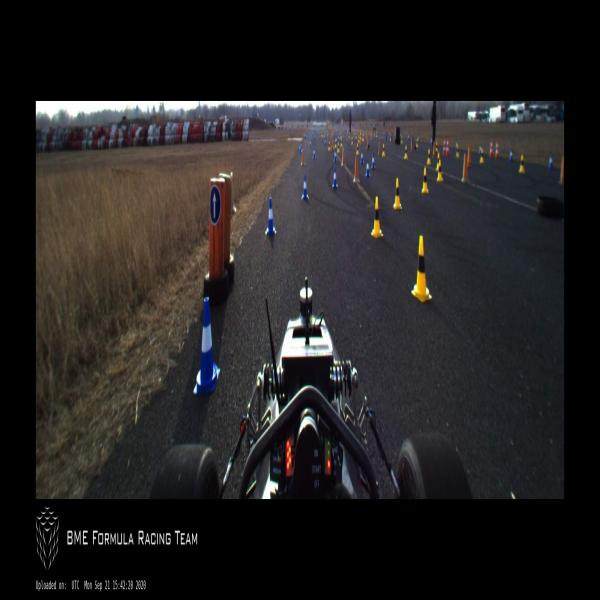blue_cone: (193, 297, 220, 394), (266, 198, 276, 235), (301, 174, 309, 199), (332, 168, 338, 188), (371, 153, 376, 169), (366, 158, 370, 176), (549, 154, 553, 169), (360, 150, 364, 164), (510, 149, 514, 162), (312, 147, 316, 159), (334, 150, 337, 162), (309, 140, 312, 147), (479, 144, 481, 154), (299, 144, 301, 153), (324, 138, 326, 146), (418, 136, 420, 142), (308, 131, 310, 137), (318, 130, 320, 136), (430, 138, 432, 144), (456, 141, 458, 147), (408, 134, 409, 141), (380, 132, 381, 139), (338, 135, 339, 141), (336, 136, 337, 142), (305, 134, 306, 140), (312, 132, 313, 136), (389, 132, 390, 136), (314, 135, 314, 140)
large_orange_cone: (496, 138, 500, 158), (446, 137, 450, 156), (443, 136, 446, 155), (490, 139, 493, 157)
unknown_cone: (461, 154, 470, 183), (353, 156, 360, 182), (559, 154, 564, 184), (341, 146, 346, 166), (467, 147, 472, 167), (301, 148, 305, 166), (378, 141, 381, 155), (410, 138, 413, 152), (366, 136, 369, 149), (331, 138, 334, 150), (433, 142, 435, 157), (360, 135, 362, 146), (370, 129, 372, 139), (366, 129, 368, 139), (374, 129, 376, 138), (306, 138, 308, 146), (327, 136, 329, 142), (386, 133, 387, 141), (391, 134, 392, 140)
yellow_cone: (412, 236, 432, 303), (371, 196, 384, 238), (393, 177, 402, 210), (422, 167, 428, 193), (437, 160, 443, 181), (519, 154, 525, 173), (436, 153, 441, 172), (427, 148, 431, 164), (404, 145, 408, 159), (480, 149, 484, 163), (382, 143, 385, 156), (456, 145, 459, 157), (356, 144, 359, 154), (328, 141, 331, 150), (340, 132, 343, 139), (436, 142, 438, 152), (338, 143, 340, 152), (351, 136, 353, 145), (416, 139, 418, 147), (362, 134, 364, 142), (355, 131, 357, 139), (335, 140, 337, 147), (360, 133, 362, 140), (401, 136, 403, 142), (358, 136, 360, 142), (326, 130, 328, 136), (381, 132, 383, 138), (354, 130, 356, 135), (322, 132, 324, 136), (341, 140, 342, 146), (349, 132, 350, 138), (324, 132, 325, 138), (347, 129, 348, 135), (331, 132, 332, 138), (321, 131, 322, 137)
